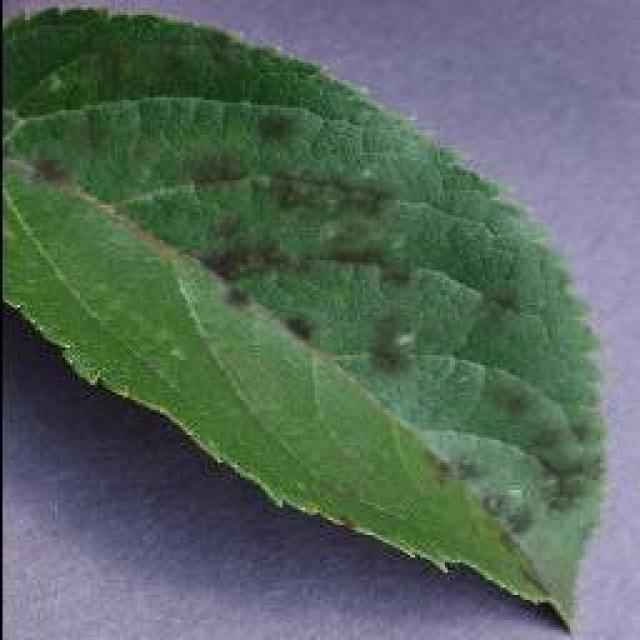apple scab disease: (0, 2, 610, 638)
